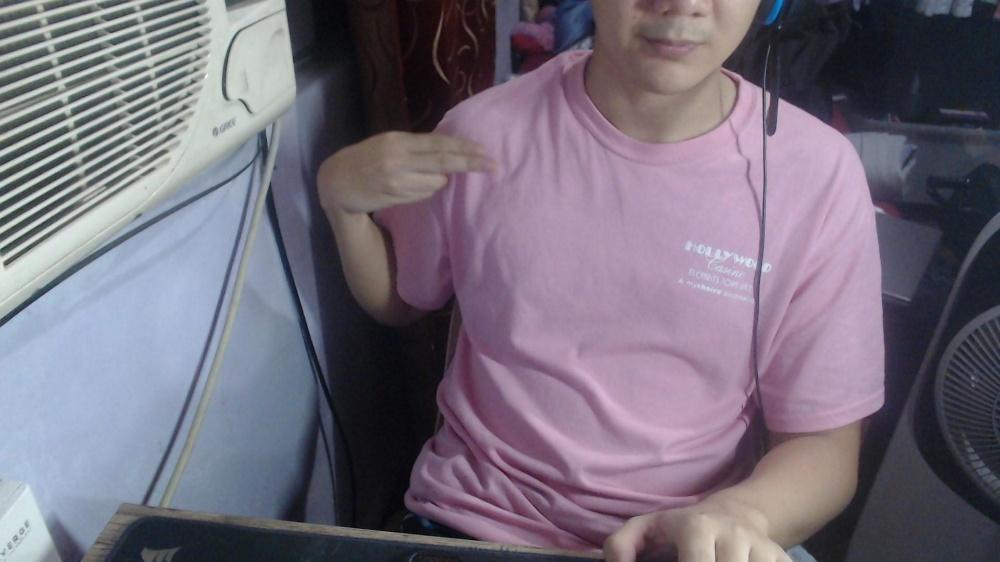h: (314, 127, 499, 213)
